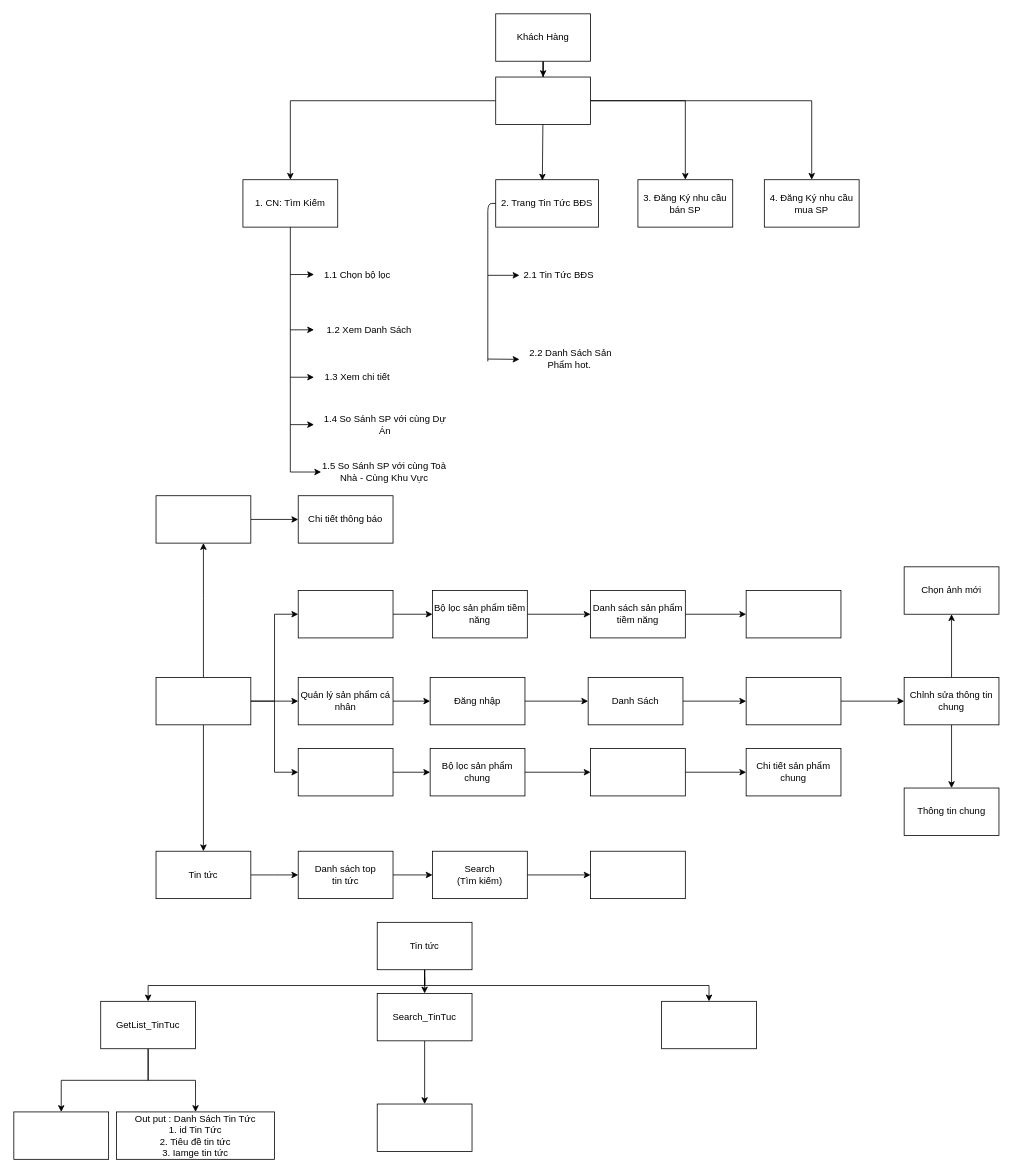
Some shapes in this 1013 by 1173 pixel diagram are drawn without their labels. Each missing label, with the box of its shape:
Chi tiết: (745, 677, 841, 725)
Chi tiết sản phẩm tiềm năng: (745, 590, 841, 638)
Chi tiết tin tức: (590, 850, 685, 899)
Danh sách sản phẩm chung: (590, 748, 685, 796)
Deltail_TinTuc: (661, 1001, 756, 1049)
Input: (376, 1103, 472, 1151)
Input : Number Page: (13, 1111, 109, 1159)
Login/Resign: (495, 76, 591, 124)
Thông báo: (155, 495, 251, 543)
Trang Chủ: (155, 677, 251, 725)
Tìm kiếm sản phẩm chung: (297, 748, 393, 796)
Tìm kiếm sản phẩm tiềm năng: (297, 590, 393, 638)
